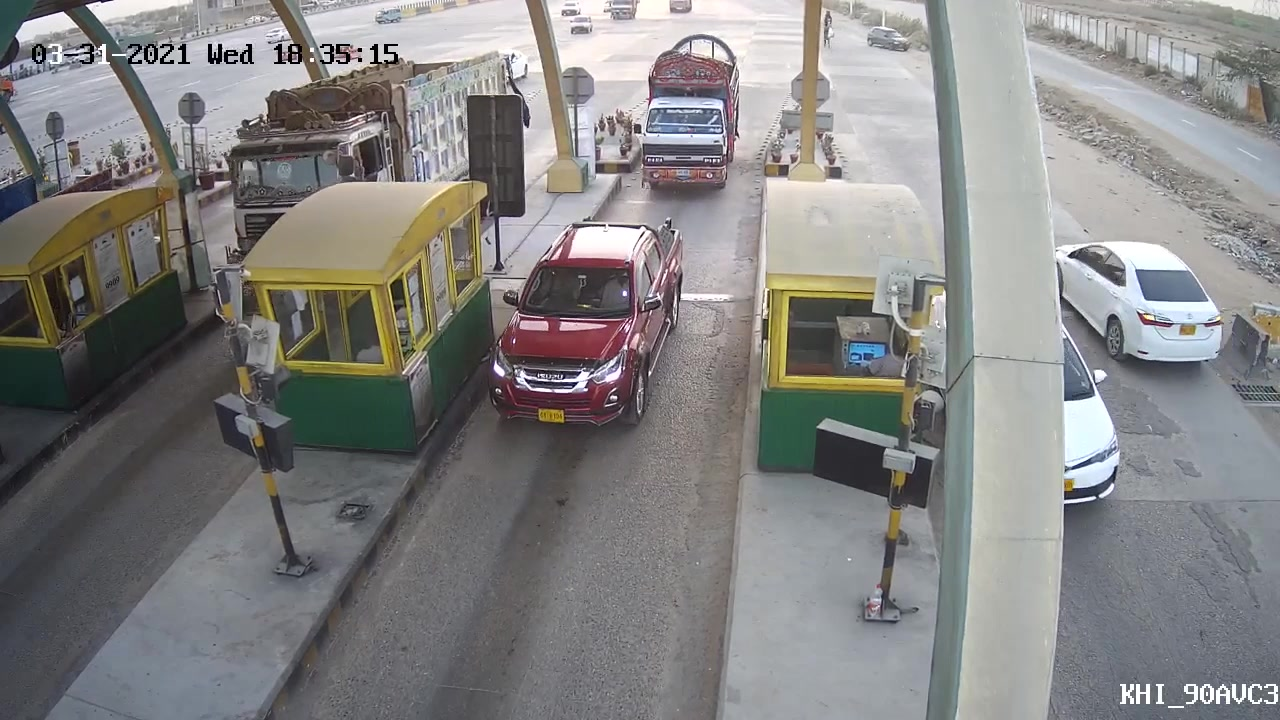F1: (473, 210, 687, 436)
F5: (634, 37, 742, 197)
